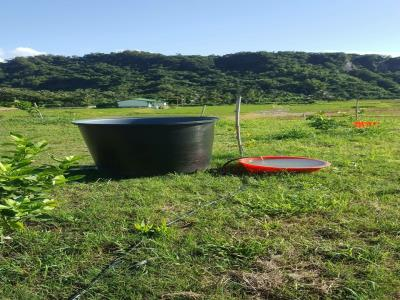bowl: (237, 154, 332, 174)
bucket: (71, 112, 220, 181)
